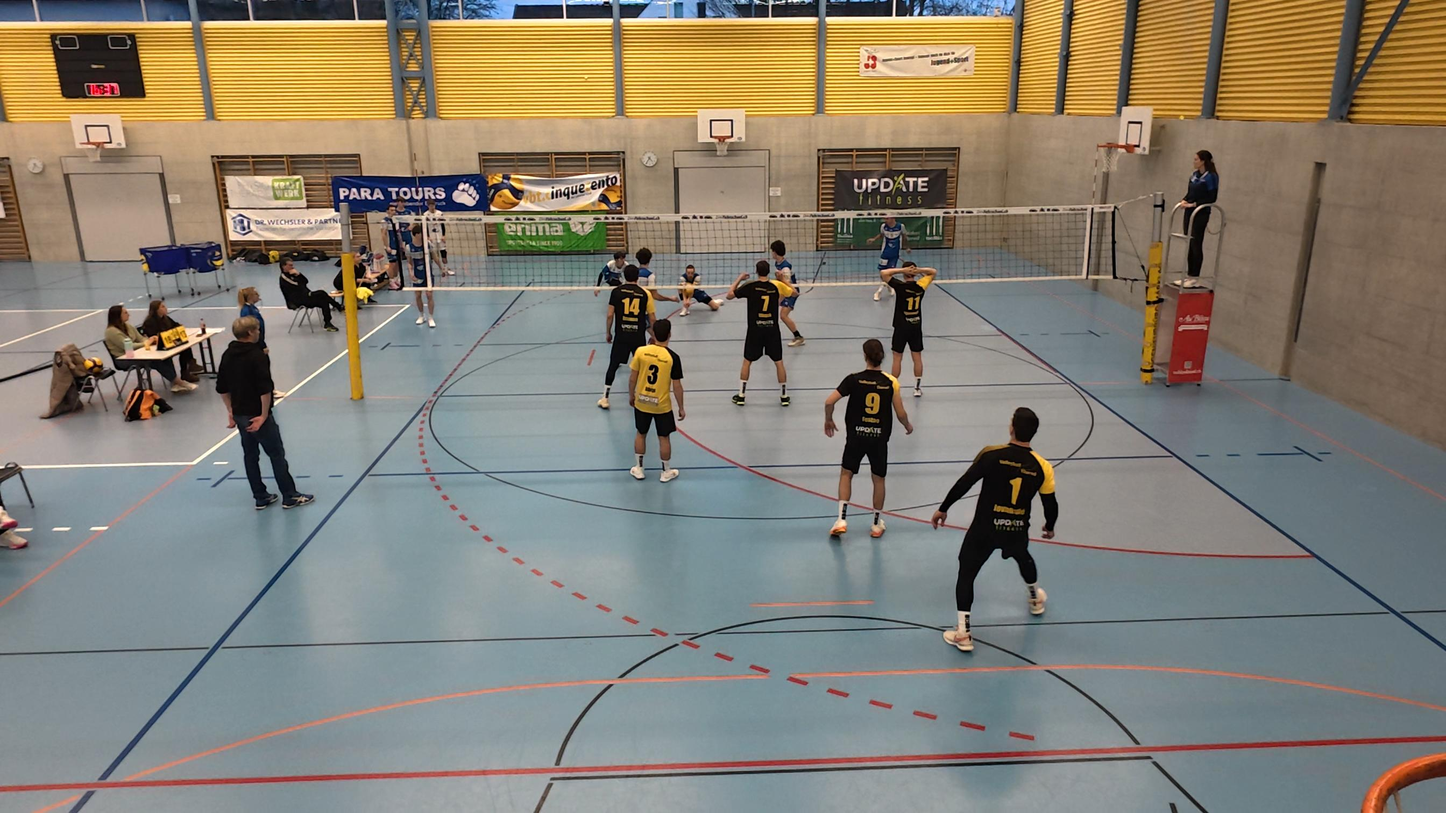Player: (931, 408, 1058, 652), (826, 340, 911, 540), (724, 263, 797, 406), (722, 261, 793, 406), (626, 322, 685, 482), (592, 270, 655, 411), (878, 258, 939, 397), (769, 236, 807, 347), (632, 244, 680, 309), (874, 217, 904, 288), (597, 251, 637, 295)
Receive: (669, 265, 727, 323)
ball: (682, 279, 695, 297)
